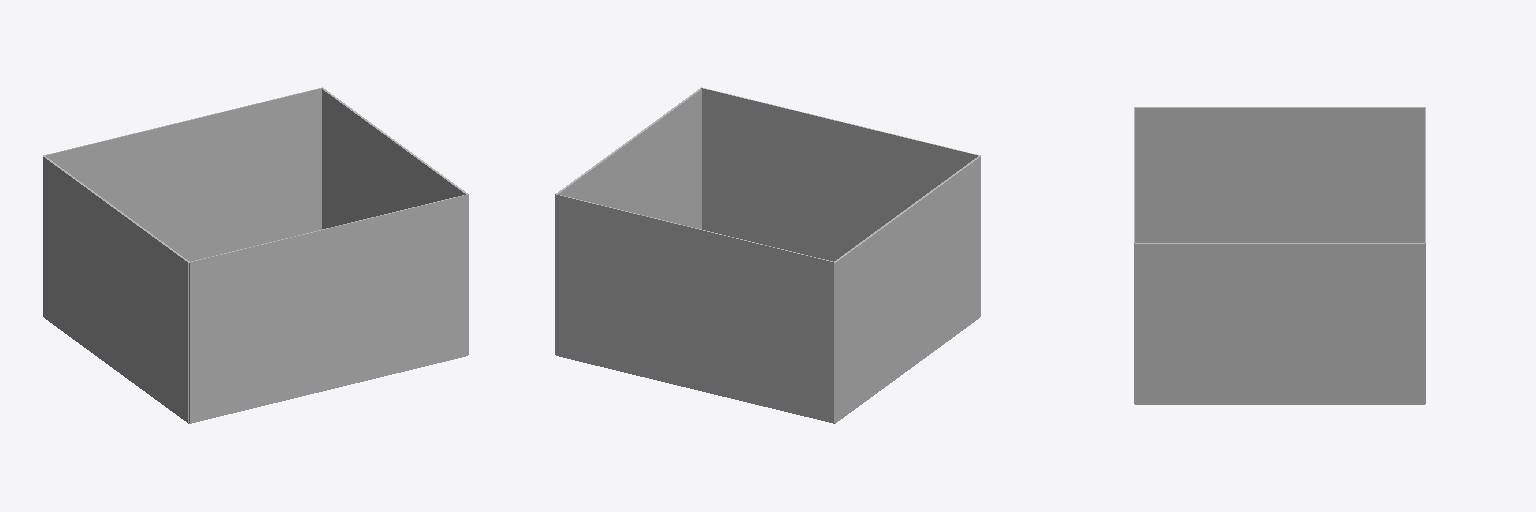
The model's file is walls.obj.
3 views of the same model, side by side, from view 1: azimuth 30°, elevation 25°; view 2: azimuth 150°, elevation 25°; view 3: azimuth 270°, elevation 25° (orthographic).
Parts seen in each view (by area): view 1: walls pCube12, walls pCube15, walls pCube10, walls pCube7; view 2: walls pCube15, walls pCube12, walls pCube10, walls pCube7; view 3: walls pCube7, walls pCube10.
Part boxes in pixels (bbox=[...]): walls pCube12: bbox=[189, 194, 468, 422]; walls pCube15: bbox=[43, 87, 322, 261]; walls pCube10: bbox=[43, 156, 189, 422]; walls pCube7: bbox=[322, 88, 467, 228]; walls pCube15: bbox=[555, 194, 834, 422]; walls pCube12: bbox=[701, 87, 980, 261]; walls pCube10: bbox=[834, 156, 980, 422]; walls pCube7: bbox=[556, 88, 701, 228]; walls pCube7: bbox=[1135, 243, 1425, 403]; walls pCube10: bbox=[1135, 107, 1424, 242].
Size of the model in its own units: 405 by 223 by 365.